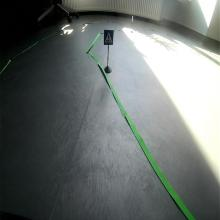crosswalk: (103, 29, 114, 46)
